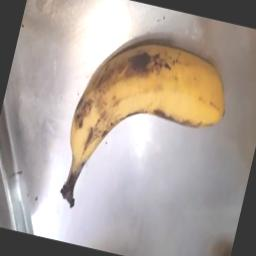Banana Overripe: (57, 15, 244, 186)
